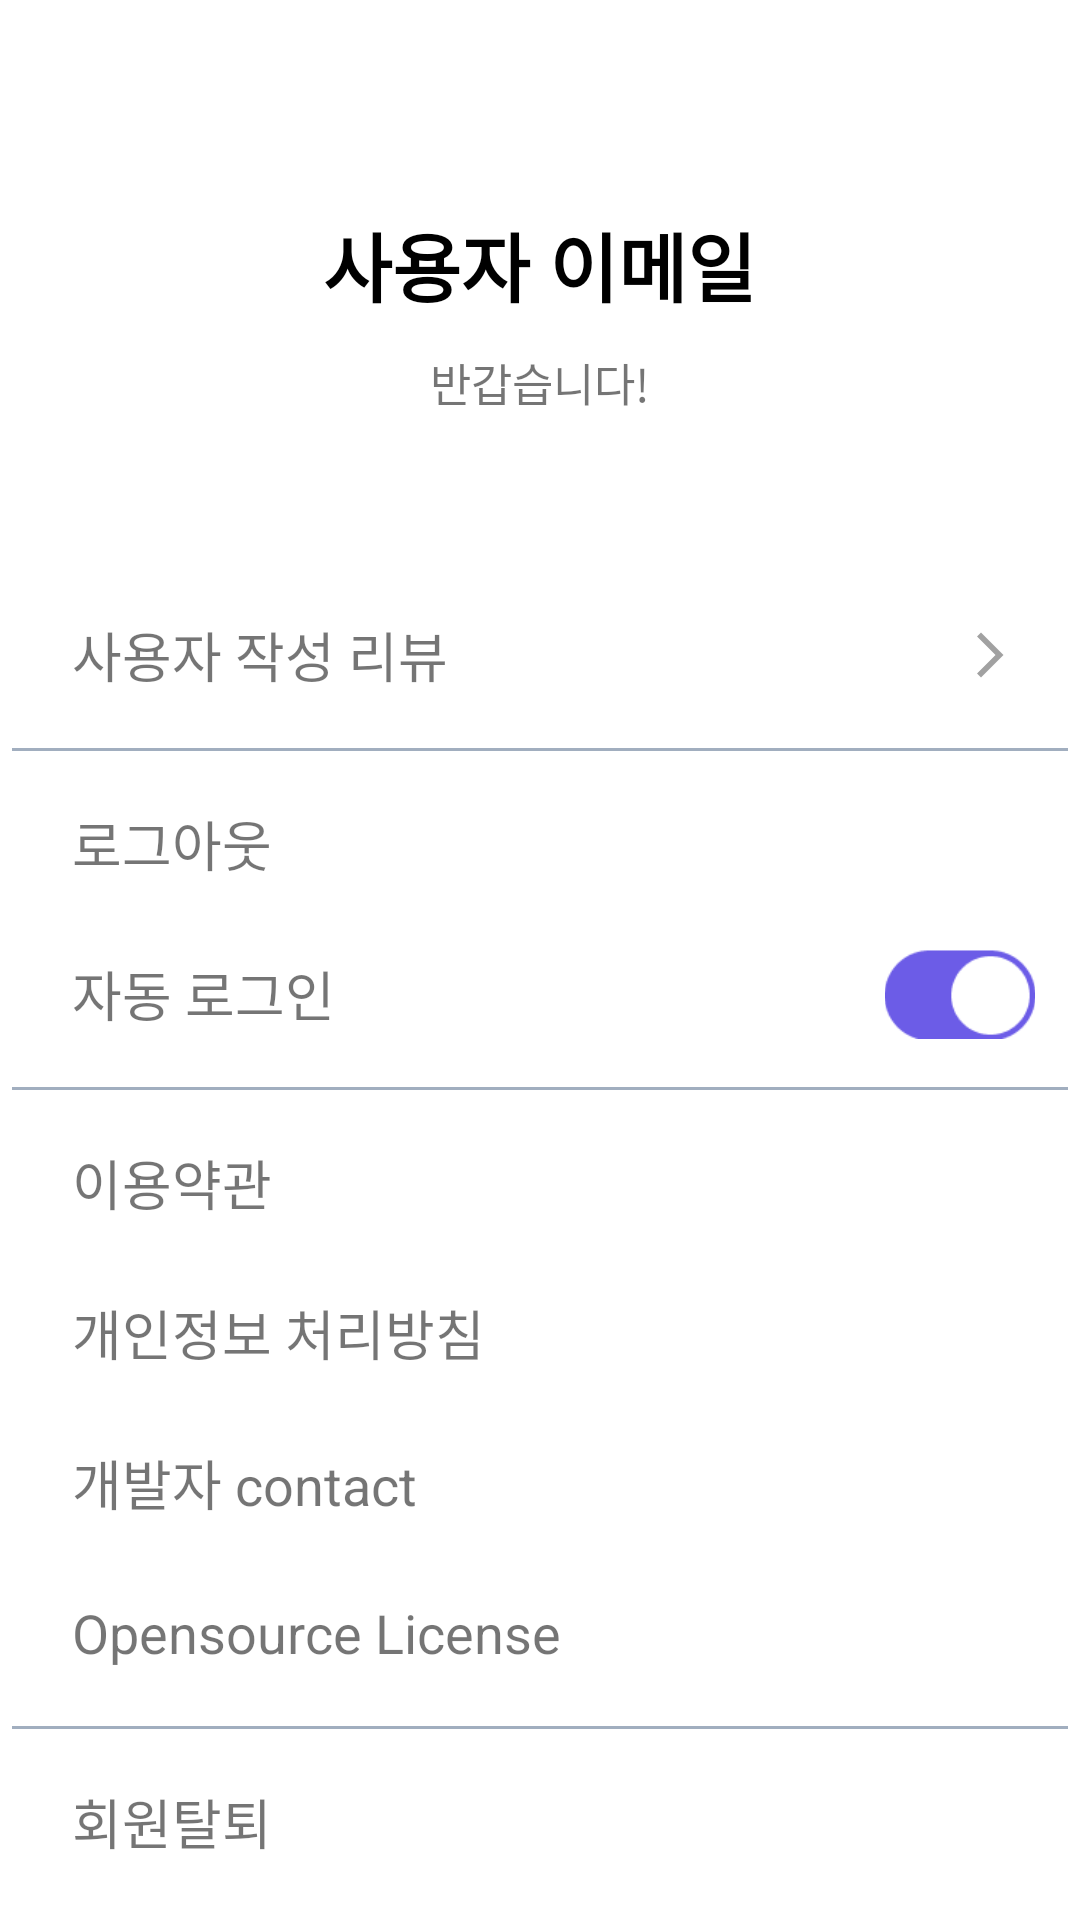

Icons on this 1080×1920 Android screen, each with its box as (x1, y1, x2, y2):
arrow: (977, 633, 1003, 677)
toggle on: (885, 950, 1035, 1039)
